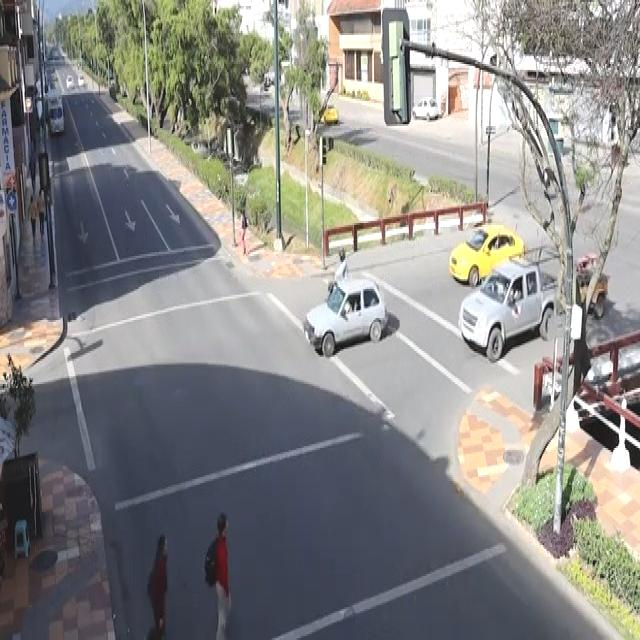CMT: (459, 263, 559, 356)
